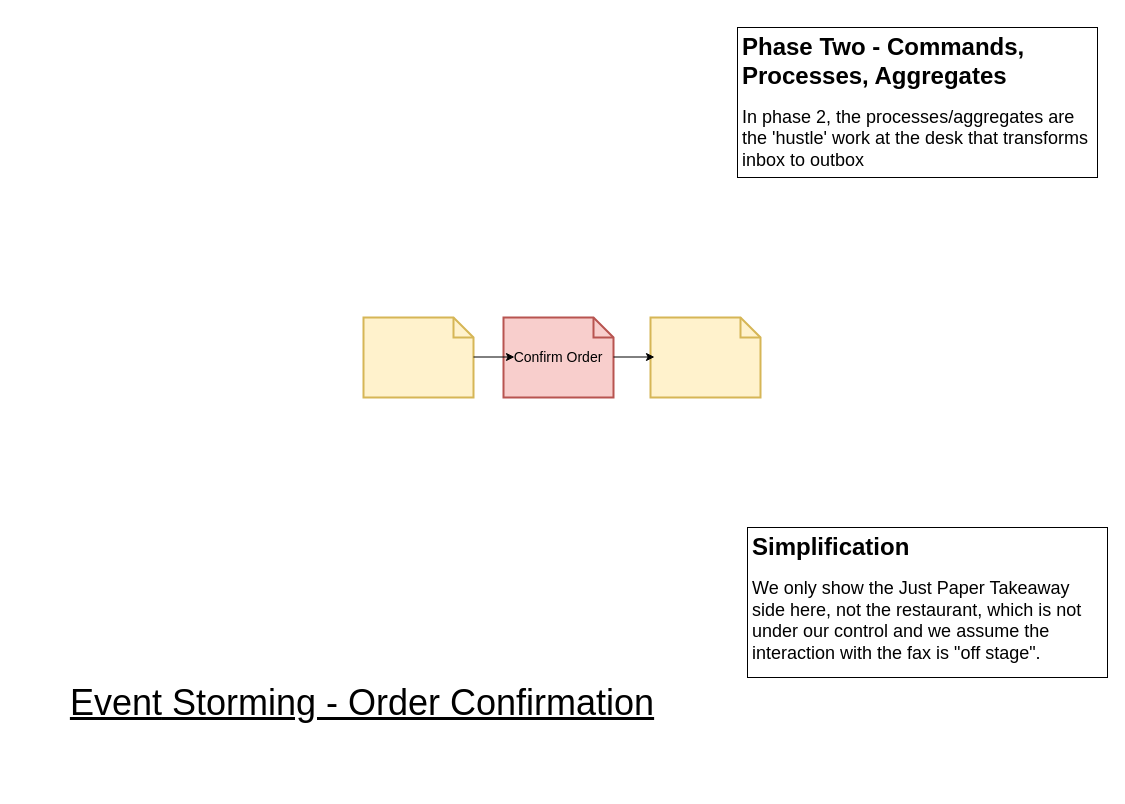
Some shapes in this 1125 by 804 pixel diagram are drawn without their labels. Here are the shapes that lost their labels. From the top down, the box of each, then its label:
(362, 316, 474, 398): Order Placed
(649, 316, 761, 398): Order Confirmed
